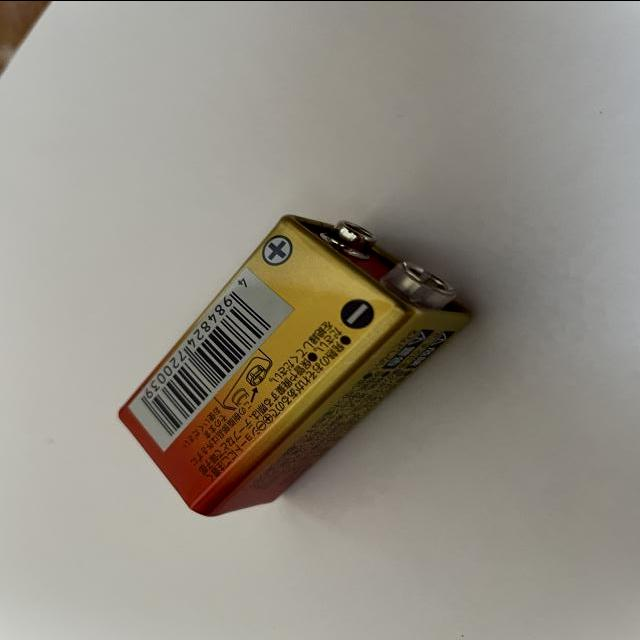9V: (116, 213, 470, 516)
